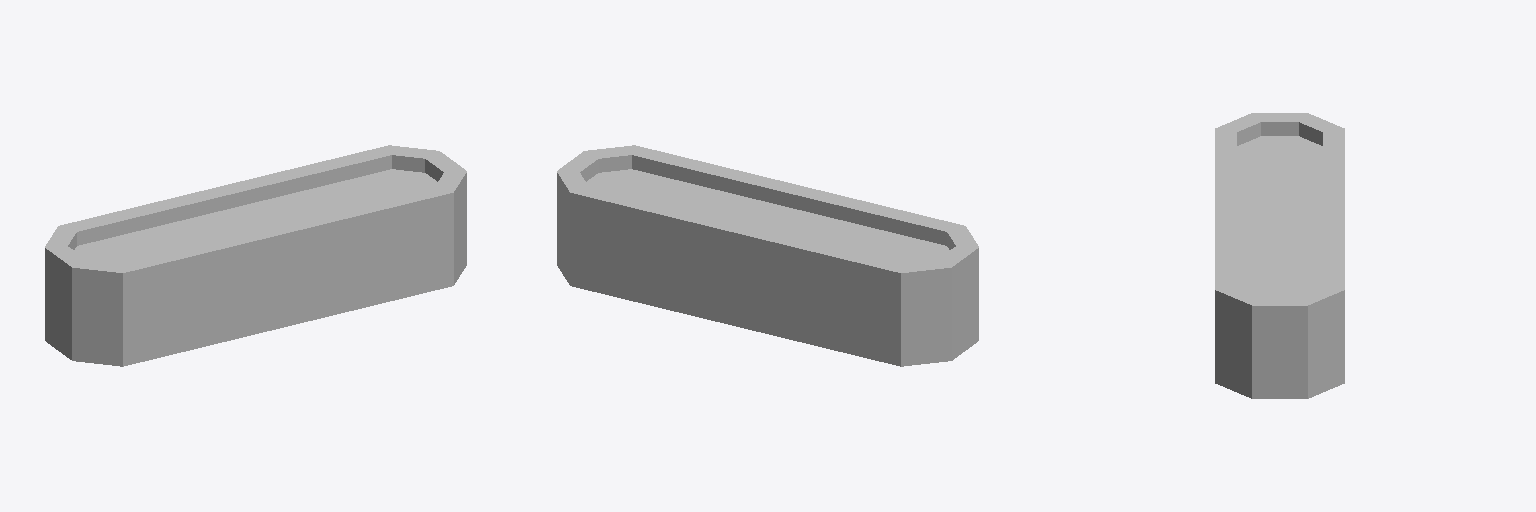
File: p2-rotated.obj
The picture shows the model from 3 angles: view 1: azimuth 30°, elevation 25°; view 2: azimuth 150°, elevation 25°; view 3: azimuth 270°, elevation 25°; orthographic projection.
Visible parts, largest first — view 1: p22; view 2: p22; view 3: p22.
Part boxes in pixels (x1,y1,x2,y2): p22: (45,145,466,366); p22: (557,145,978,366); p22: (1215,113,1344,398).
Bounding box in the file's own units: 7.07 × 1.6 × 2.01.